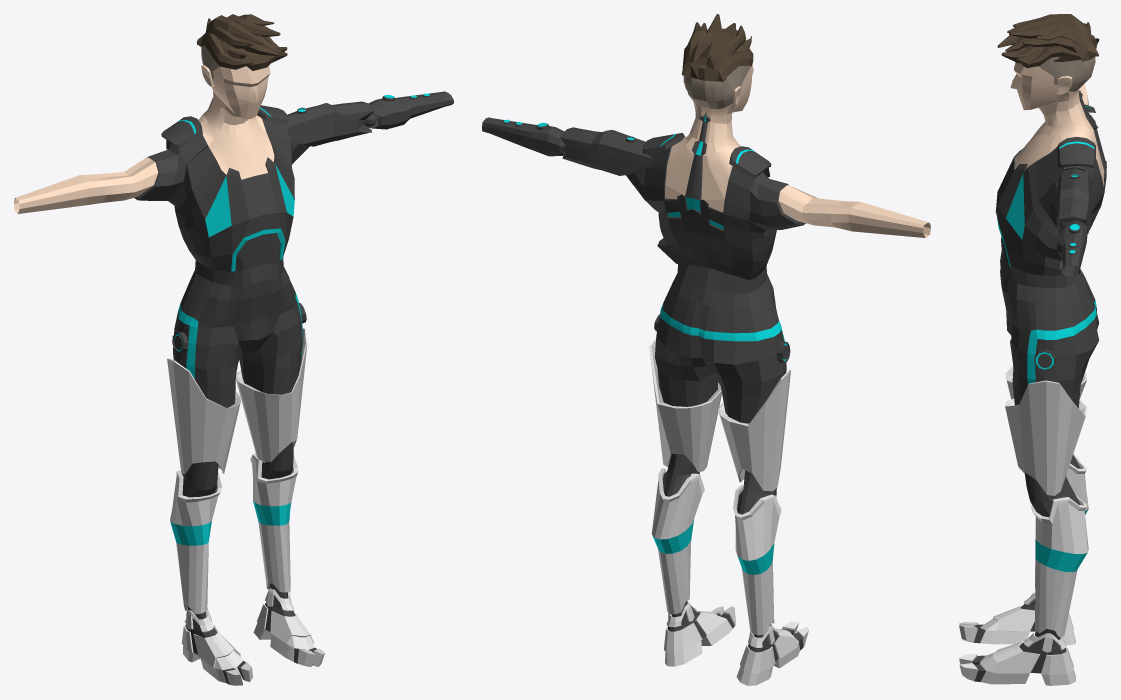
The model's file is poeldancer_test.fbx.
3 renders of one model, left to right at view 1: azimuth 30°, elevation 25°; view 2: azimuth 150°, elevation 25°; view 3: azimuth 270°, elevation 25°, orthographic. The views are drawn at different scales.
Parts seen in each view (by area): view 1: Poledancer_test_model; view 2: Poledancer_test_model; view 3: Poledancer_test_model.
Part boxes in pixels (x1,y1,x2,y2): Poledancer_test_model: [14, 14, 453, 685]; Poledancer_test_model: [482, 14, 930, 685]; Poledancer_test_model: [959, 14, 1106, 685].
Bounding box in the file's own units: 17.37 × 23.98 × 5.
